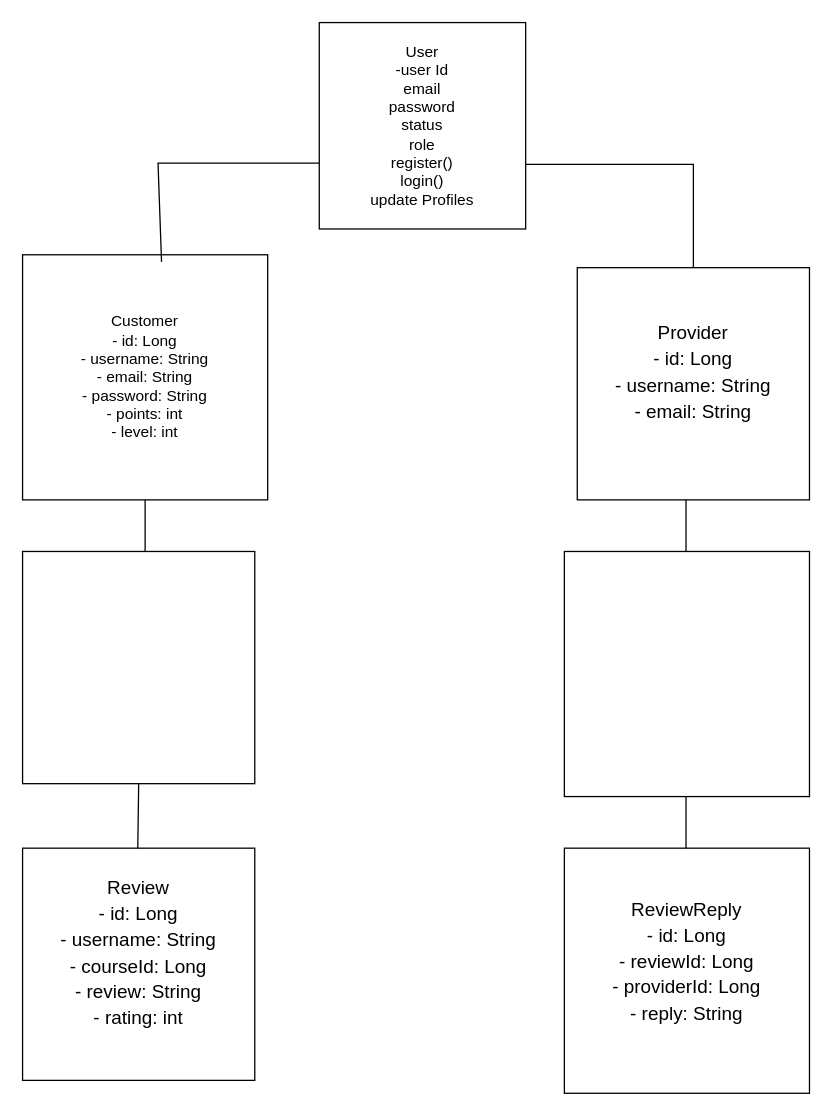
The diagram is 832 pixels wide and 1116 high, and some of its shapes have lost their labels. The shapes that lost their labels are listed below. From the top down, each one's centre as x and y in pixels, then its label:
the point at 138,667: Enrollment - id: Long - customerId: Long - courseId: Long - status: String
the point at 686,673: Course - id: Long - title: String - description: String - providerId: Long
